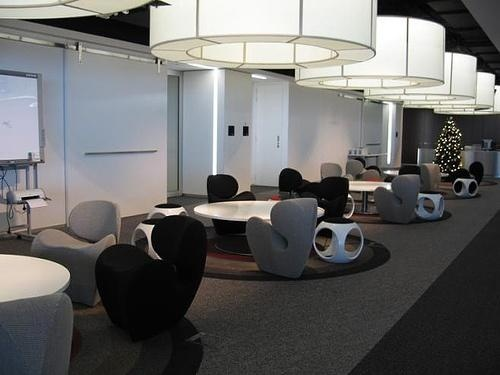chair: (92, 214, 210, 341), (29, 199, 121, 306), (247, 197, 320, 278), (4, 294, 75, 375), (206, 174, 257, 238), (372, 174, 419, 223), (301, 178, 351, 219), (449, 162, 486, 196), (276, 168, 309, 191), (317, 162, 352, 181), (422, 164, 441, 192), (344, 159, 364, 179), (362, 169, 380, 181)
